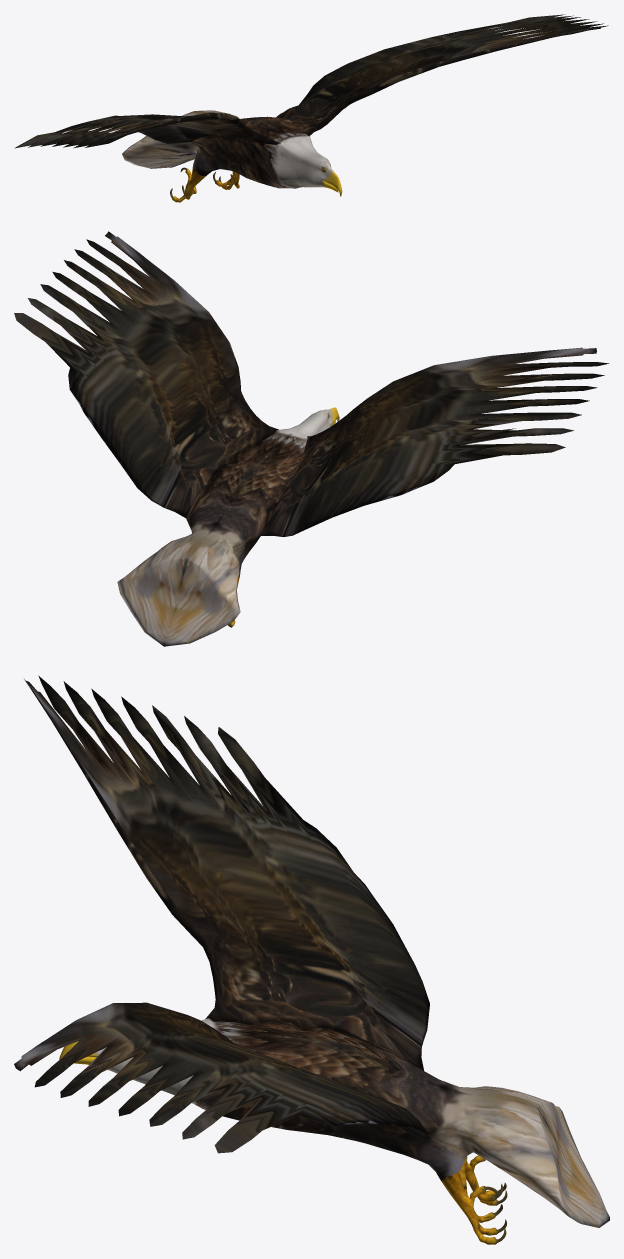
The model's file is Eagle-original_000023.obj.
3 views of the same model, one above another, from view 1: azimuth 30°, elevation 25°; view 2: azimuth 150°, elevation 25°; view 3: azimuth 270°, elevation 25° (orthographic). The views are drawn at different scales.
Parts seen in each view (by area): view 1: Flugel_Plane.003; view 2: Flugel_Plane.003; view 3: Flugel_Plane.003.
Part boxes in pixels (bbox=[...]): Flugel_Plane.003: bbox=[14, 14, 608, 202]; Flugel_Plane.003: bbox=[14, 231, 609, 646]; Flugel_Plane.003: bbox=[14, 675, 609, 1244].
Bounding box in the file's own units: 10.56 × 4.08 × 6.24.
Materials: 1 (1 with a texture image).
